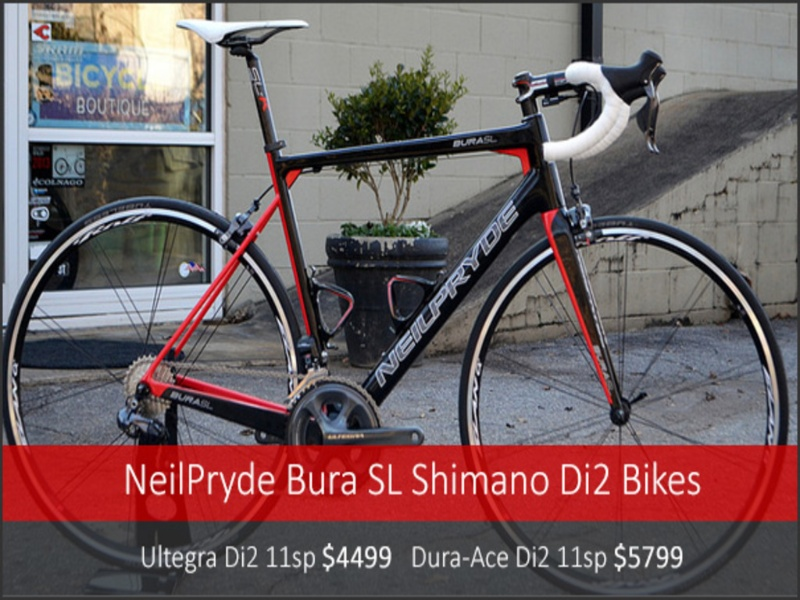bicycle: (17, 6, 792, 594)
